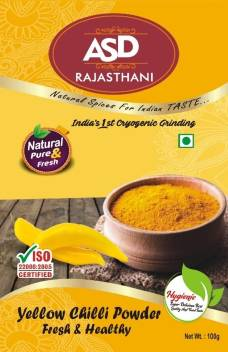VEG: (177, 133, 195, 149)
